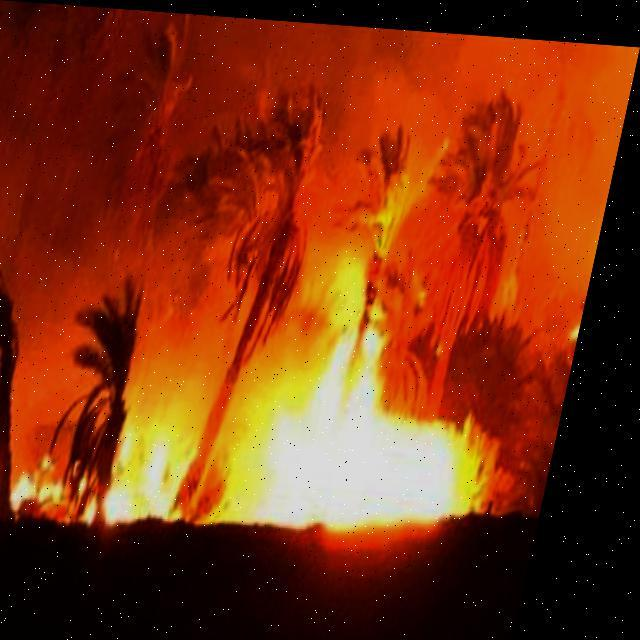Fire: (0, 213, 562, 542)
